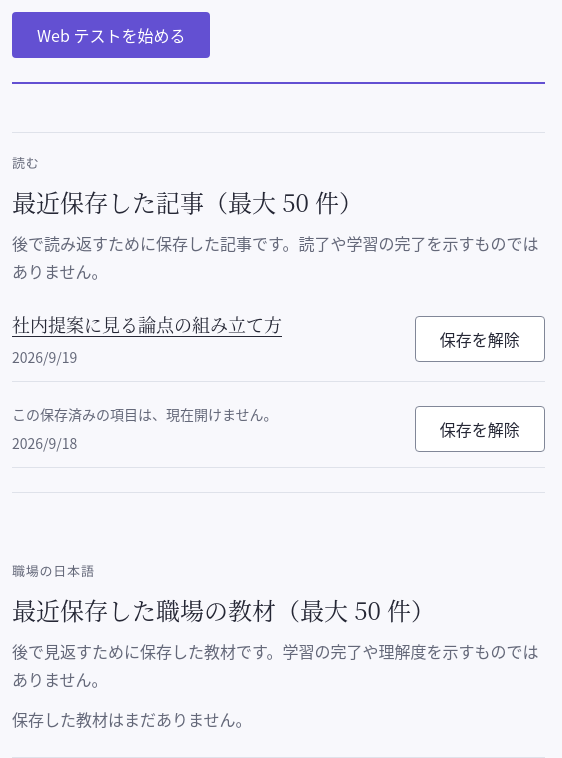
it: My Learning page › shows only current catalog Reading links and lets a stale save be removed by ID
(page scrolled)
Check: the text "この保存済みの項目は、現在開けません。" is shown, box [12, 404, 278, 424]
Click the button "保存を解除" next to "この保存済みの項目は、現在開けません。": point(480, 428) [415, 406, 545, 452]
(page scrolled)
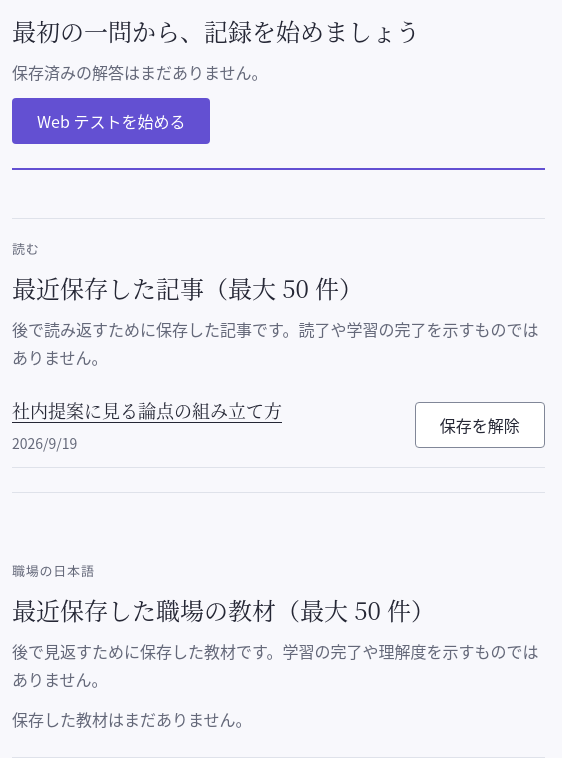
Check: the text "この保存済みの項目は、現在開けません。" is gone
